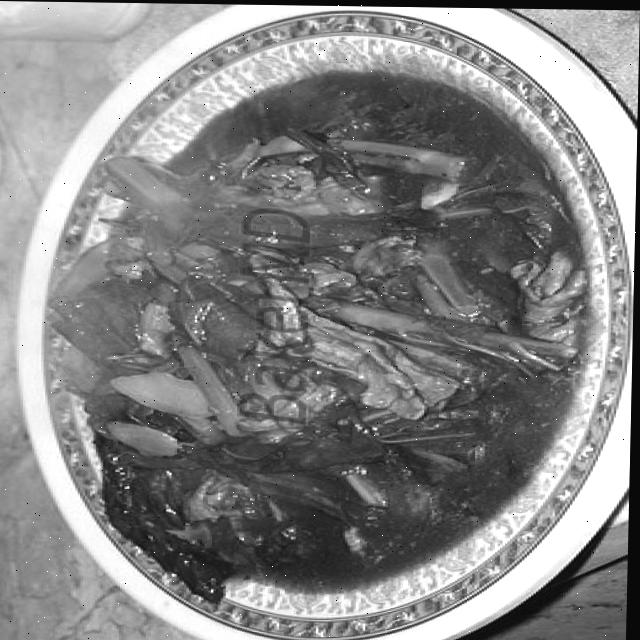牛肉菜式: (0, 8, 637, 640)
